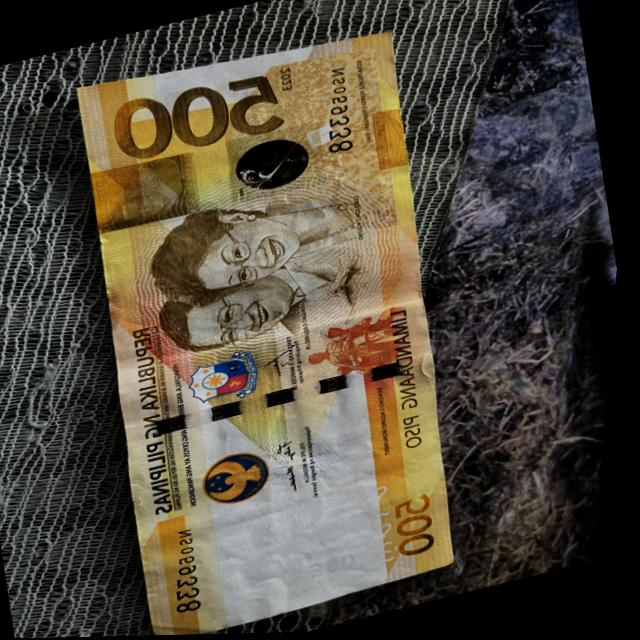concealed_value: (87, 148, 210, 234)
optically_variable_device: (222, 123, 331, 204)
security_thread: (133, 353, 438, 443)
see_through_mark: (368, 483, 414, 569)
serial_number: (162, 521, 228, 623), (310, 63, 367, 158)
value: (107, 65, 291, 170)
value_watermark: (314, 551, 366, 579)
